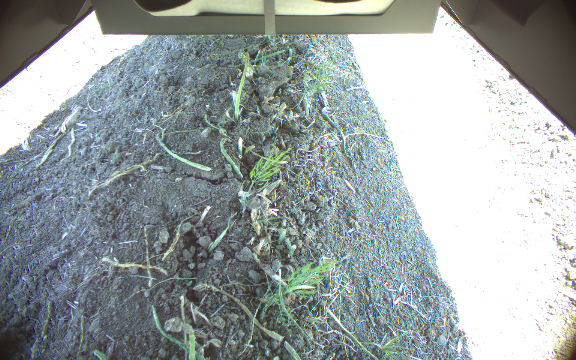aspa: (233, 51, 249, 120), (178, 320, 197, 360)
